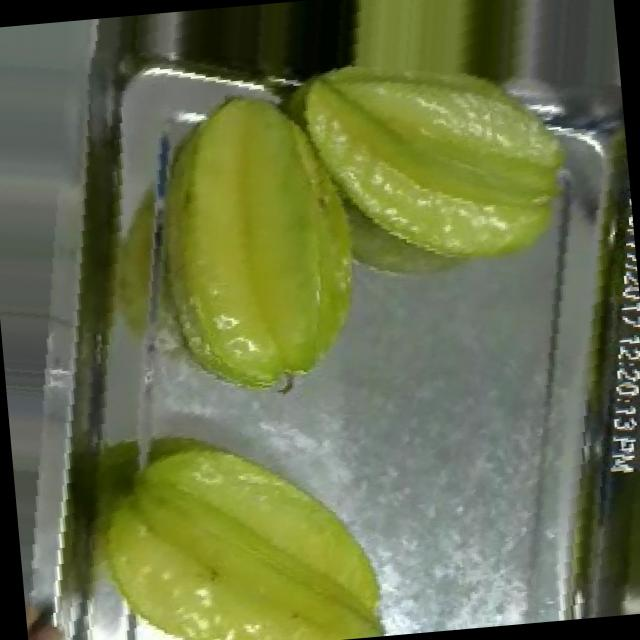fruit: (118, 62, 414, 426), (267, 2, 604, 316), (55, 396, 412, 640)
